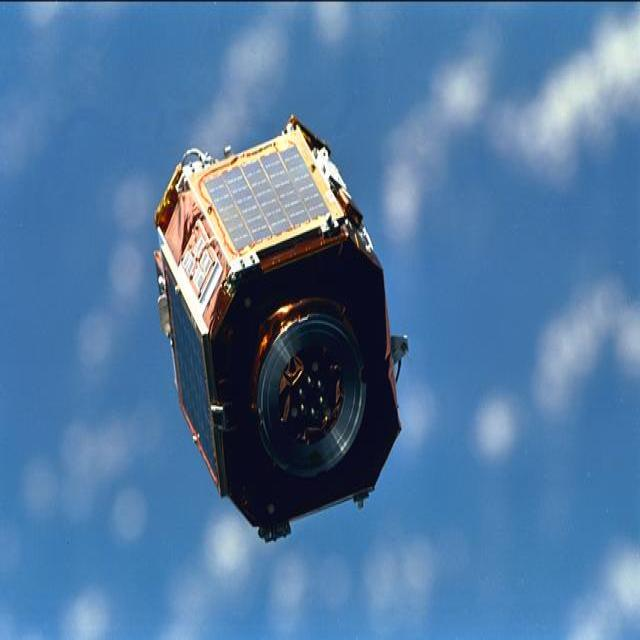satellite: (155, 116, 406, 540)
